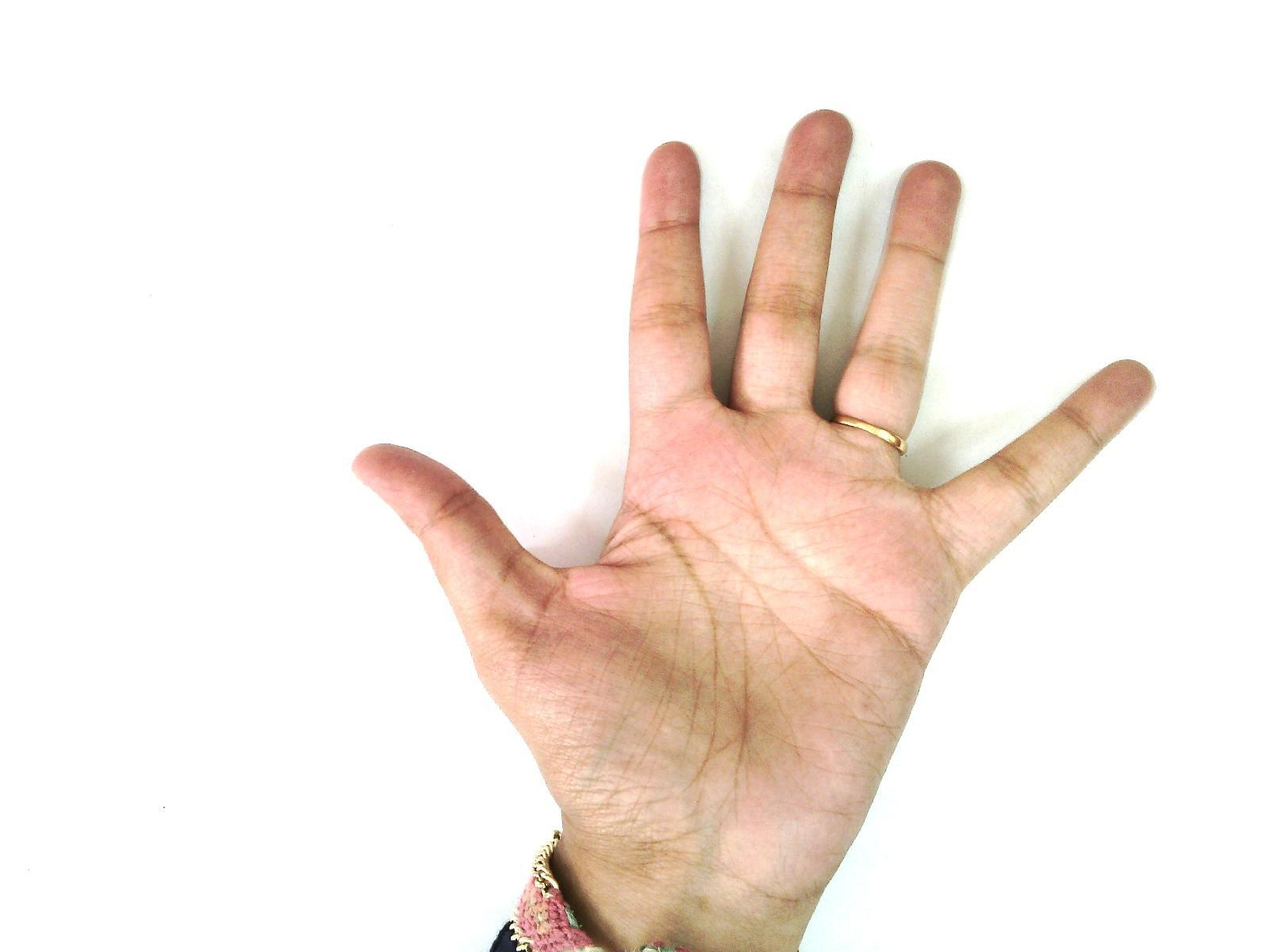open_palm: (350, 108, 1158, 905)
